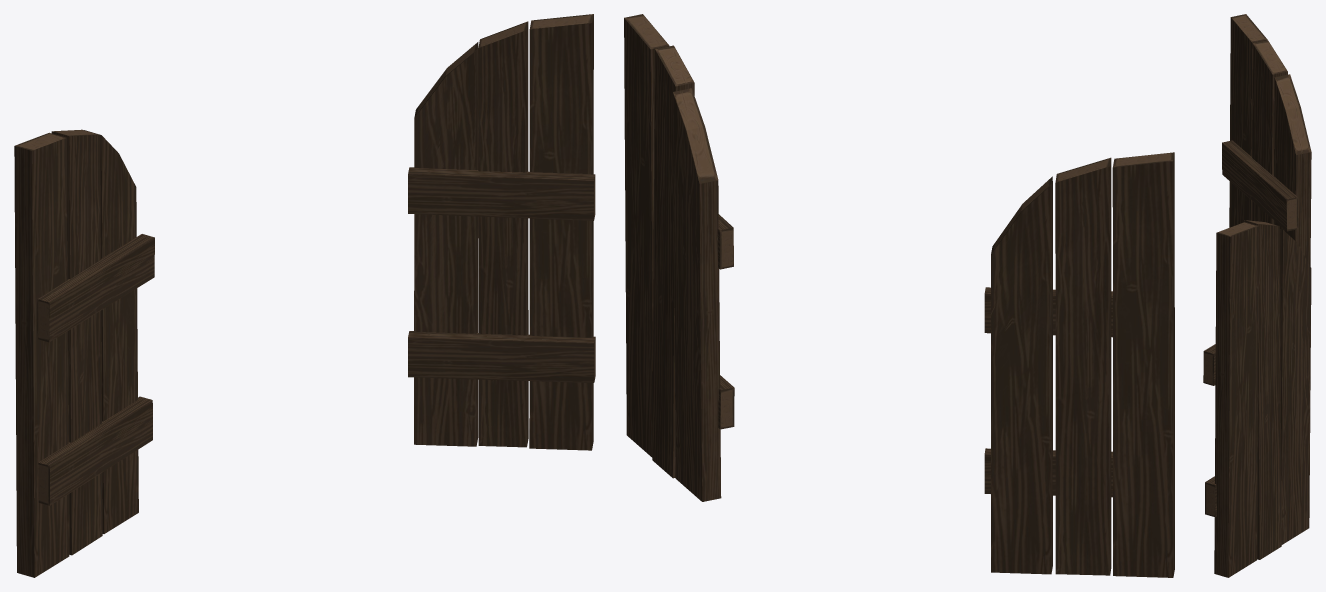
File: WindowShutters_Wide_Round_Open.gltf
3 views of the same model, side by side, from view 1: azimuth 30°, elevation 25°; view 2: azimuth 150°, elevation 25°; view 3: azimuth 270°, elevation 25° (orthographic). The views are drawn at different scales.
Visible parts, largest first — view 1: WindowShutters_Wide_Round_Open; view 2: WindowShutters_Wide_Round_Open; view 3: WindowShutters_Wide_Round_Open.
Boxes of the visible parts, left/top/right/bottom form: WindowShutters_Wide_Round_Open: left=14, top=14, right=595, bottom=577; WindowShutters_Wide_Round_Open: left=624, top=14, right=1174, bottom=577; WindowShutters_Wide_Round_Open: left=1203, top=14, right=1311, bottom=577.
Bounding box in the file's own units: 2.3 × 1.65 × 0.4724.
1 material, 1 textured.
